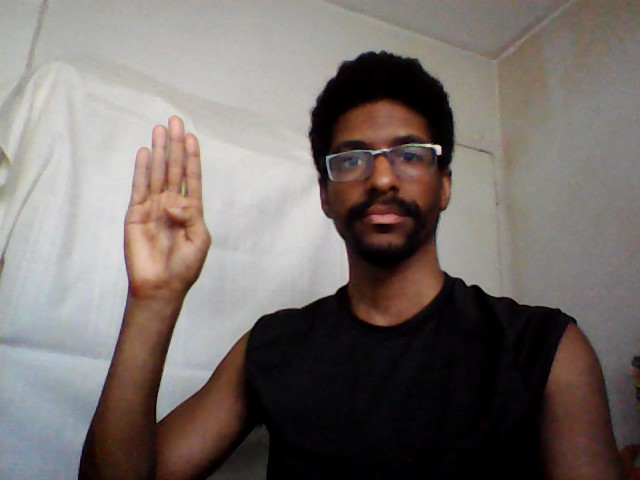b: (118, 110, 216, 303)
